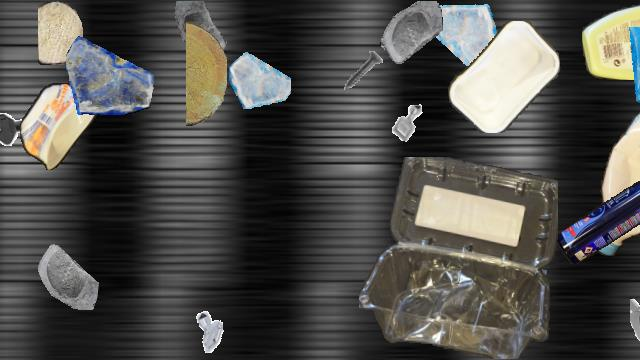glass: (66, 29, 154, 117), (471, 240, 547, 316), (25, 235, 99, 309), (427, 1, 499, 73), (171, 1, 235, 65), (229, 47, 291, 109), (380, 1, 442, 63), (620, 27, 640, 115)
metal: (337, 45, 391, 99), (382, 97, 434, 149), (190, 308, 234, 352), (0, 107, 32, 149), (630, 296, 640, 356)
plastic: (359, 157, 557, 359), (447, 21, 561, 133), (596, 86, 640, 260), (556, 181, 640, 263), (20, 83, 98, 169), (582, 1, 640, 79)
wood: (186, 22, 226, 126), (38, 1, 82, 65)
